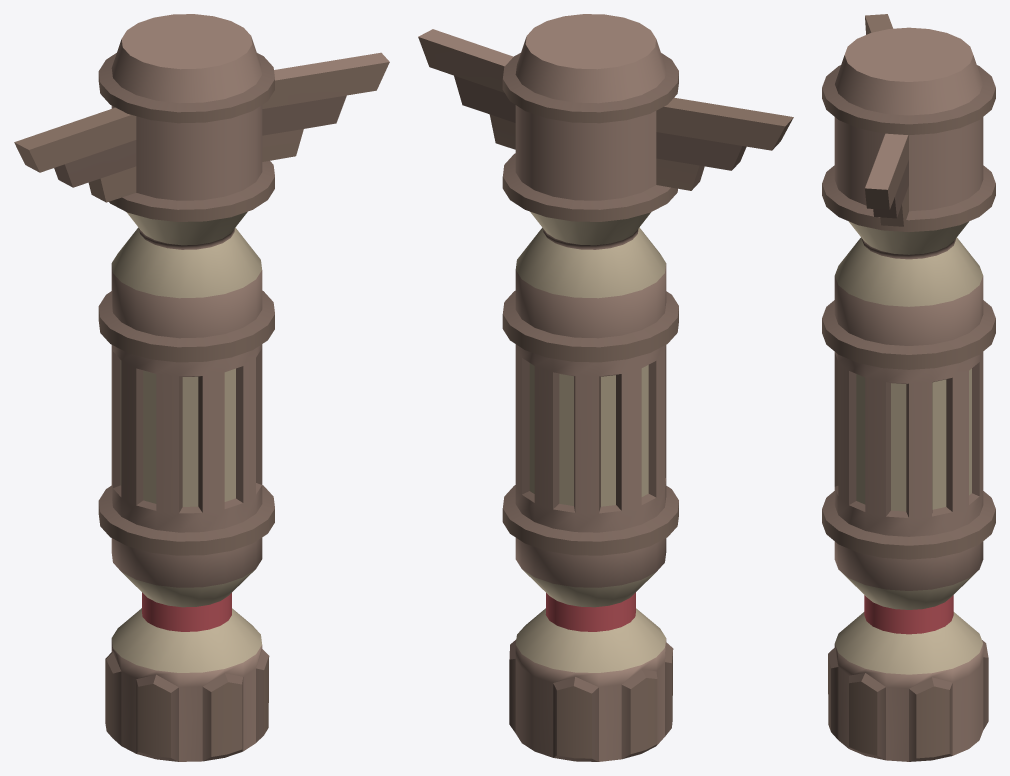
The model's file is A_EndTotemEDIT.fbx.
3 views of the same model, side by side, from view 1: azimuth 30°, elevation 25°; view 2: azimuth 150°, elevation 25°; view 3: azimuth 270°, elevation 25° (orthographic).
Visible parts, largest first — view 1: TotemTop, TotemBottom, TotemSlice; view 2: TotemTop, TotemBottom, TotemSlice; view 3: TotemTop, TotemBottom, TotemSlice.
Part boxes in pixels (x1,y1,x2,y2): TotemTop: (14, 14, 389, 607); TotemBottom: (105, 608, 269, 761); TotemSlice: (142, 592, 231, 631); TotemTop: (418, 14, 793, 607); TotemBottom: (509, 608, 673, 761); TotemSlice: (546, 592, 635, 631); TotemTop: (822, 14, 995, 609); TotemBottom: (828, 612, 988, 761); TotemSlice: (864, 595, 953, 634).
Size of the model in its own units: 125 by 224 by 52.16.
